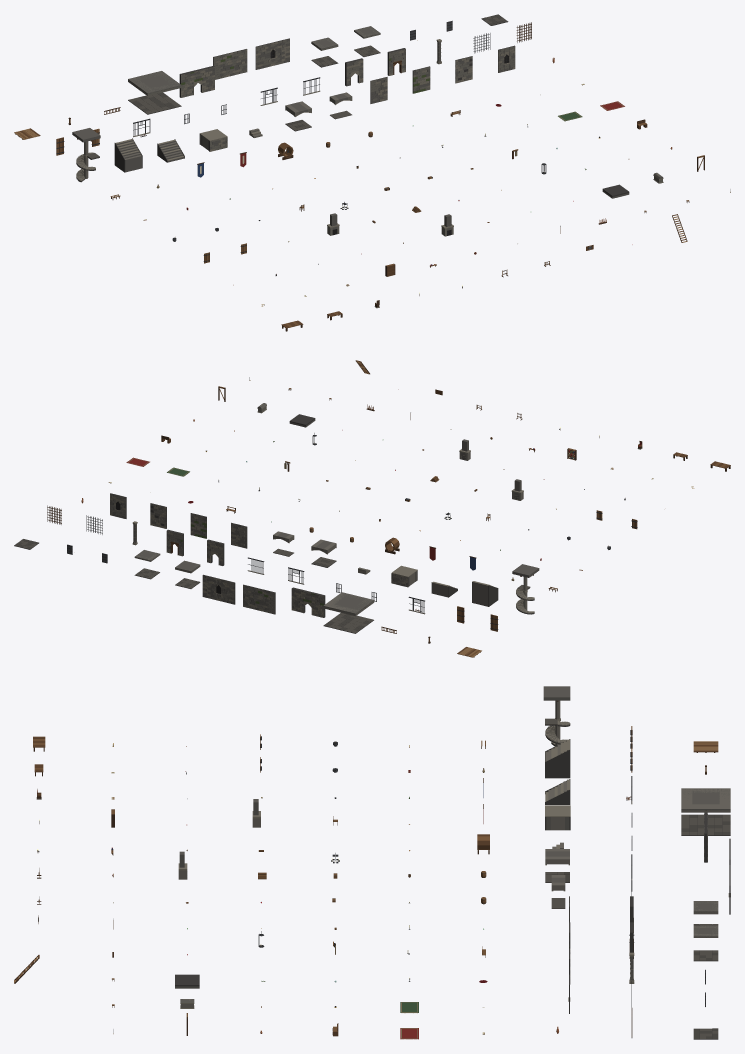
Rendered from rocca_modules.glb.
3 renders of one model, top to bottom at view 1: azimuth 30°, elevation 25°; view 2: azimuth 150°, elevation 25°; view 3: azimuth 270°, elevation 25°, orthographic. The views are drawn at different scales.
Parts seen in each view (by area): view 1: M_Big, M_BigWindow, M_BigPassage, M_BigWall, M_StairsHigh, M_Staircase, M_StairsPlatform; view 2: M_Big, M_BigWindow, M_BigPassage, M_BigWall, M_Staircase, M_StairsHigh; view 3: M_Big, M_Staircase, M_StairsHigh, M_StairsPlatform, M_CustomCenter, M_Straight.
Boxes of the visible parts, <box> form: M_Big: <box>128,71,181,114</box>; M_BigWindow: <box>255,38,289,69</box>; M_BigPassage: <box>179,66,214,97</box>; M_BigWall: <box>213,49,247,79</box>; M_StairsHigh: <box>114,138,142,172</box>; M_Staircase: <box>72,128,100,182</box>; M_StairsPlatform: <box>199,129,227,151</box>; M_Big: <box>323,592,374,633</box>; M_BigWindow: <box>202,574,235,604</box>; M_BigPassage: <box>291,587,325,617</box>; M_BigWall: <box>243,584,275,614</box>; M_Staircase: <box>512,564,539,614</box>; M_StairsHigh: <box>472,581,498,606</box>; M_Big: <box>681,788,730,835</box>; M_Staircase: <box>543,686,570,746</box>; M_StairsHigh: <box>545,739,570,778</box>; M_StairsPlatform: <box>545,805,570,830</box>; M_CustomCenter: <box>693,925,718,961</box>; M_Straight: <box>545,849,569,882</box>.
Size of what is drawn, in the model's own units: 114 by 11.65 by 116.
2 materials, 1 textured.
